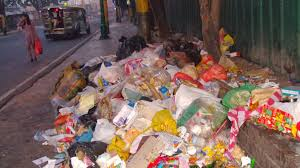garbage: (56, 61, 246, 168), (121, 35, 204, 168), (205, 66, 300, 132)
